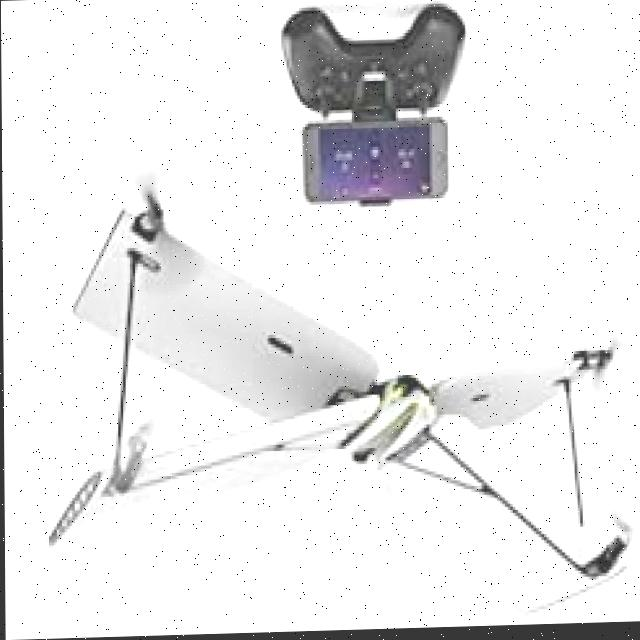drone: (20, 173, 640, 635)
